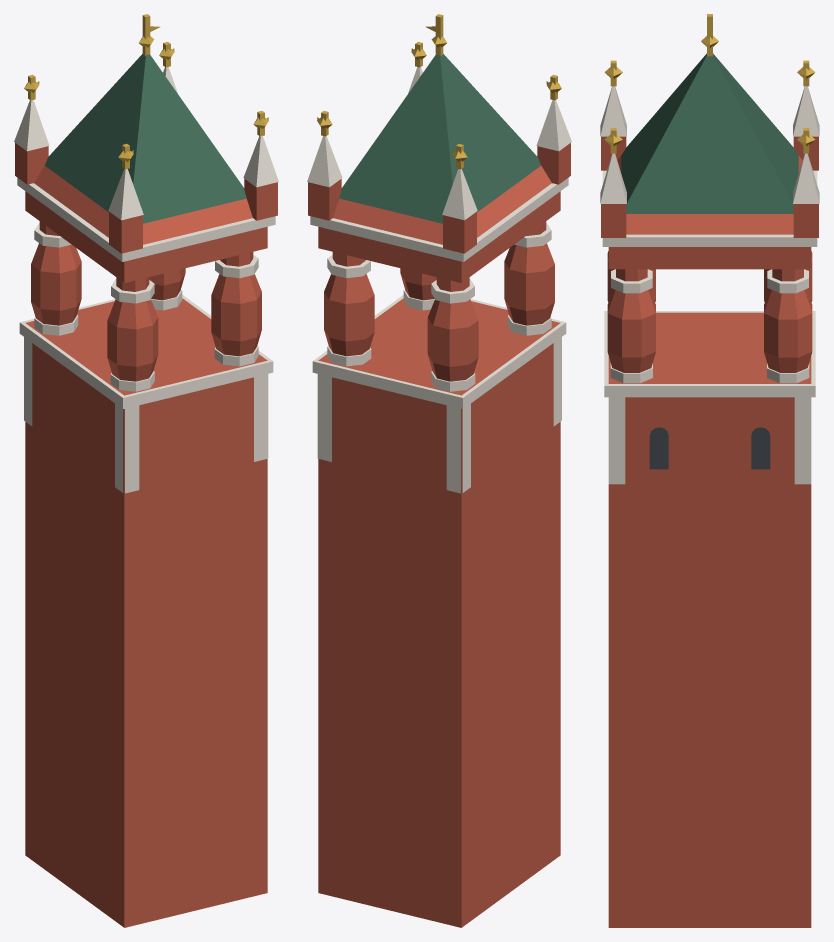
File: moscow-kremlin-tsars-tower.glb
3 views of the same model, side by side, from view 1: azimuth 30°, elevation 25°; view 2: azimuth 150°, elevation 25°; view 3: azimuth 270°, elevation 25° (orthographic). The views are drawn at different scales.
Parts seen in each view (by area): view 1: Tsar's Tower; view 2: Tsar's Tower; view 3: Tsar's Tower.
Part boxes in pixels (left/top/right/bottom): Tsar's Tower: left=14, top=14, right=278, bottom=927; Tsar's Tower: left=307, top=14, right=571, bottom=927; Tsar's Tower: left=600, top=14, right=819, bottom=927.
Bounding box in the file's own units: 4.4 × 22.9 × 5.19.
